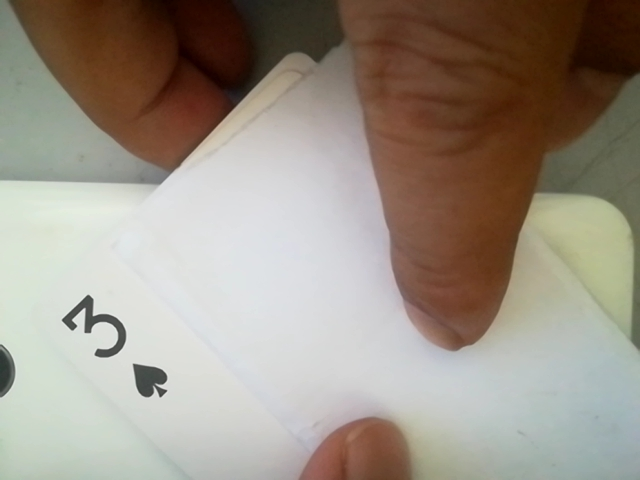ht 3: (44, 285, 185, 409)
